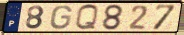2: (127, 5, 149, 31)
7: (152, 4, 177, 31)
8: (101, 4, 124, 31), (25, 5, 45, 30)
G: (49, 5, 73, 31)
Q: (74, 3, 100, 32)
